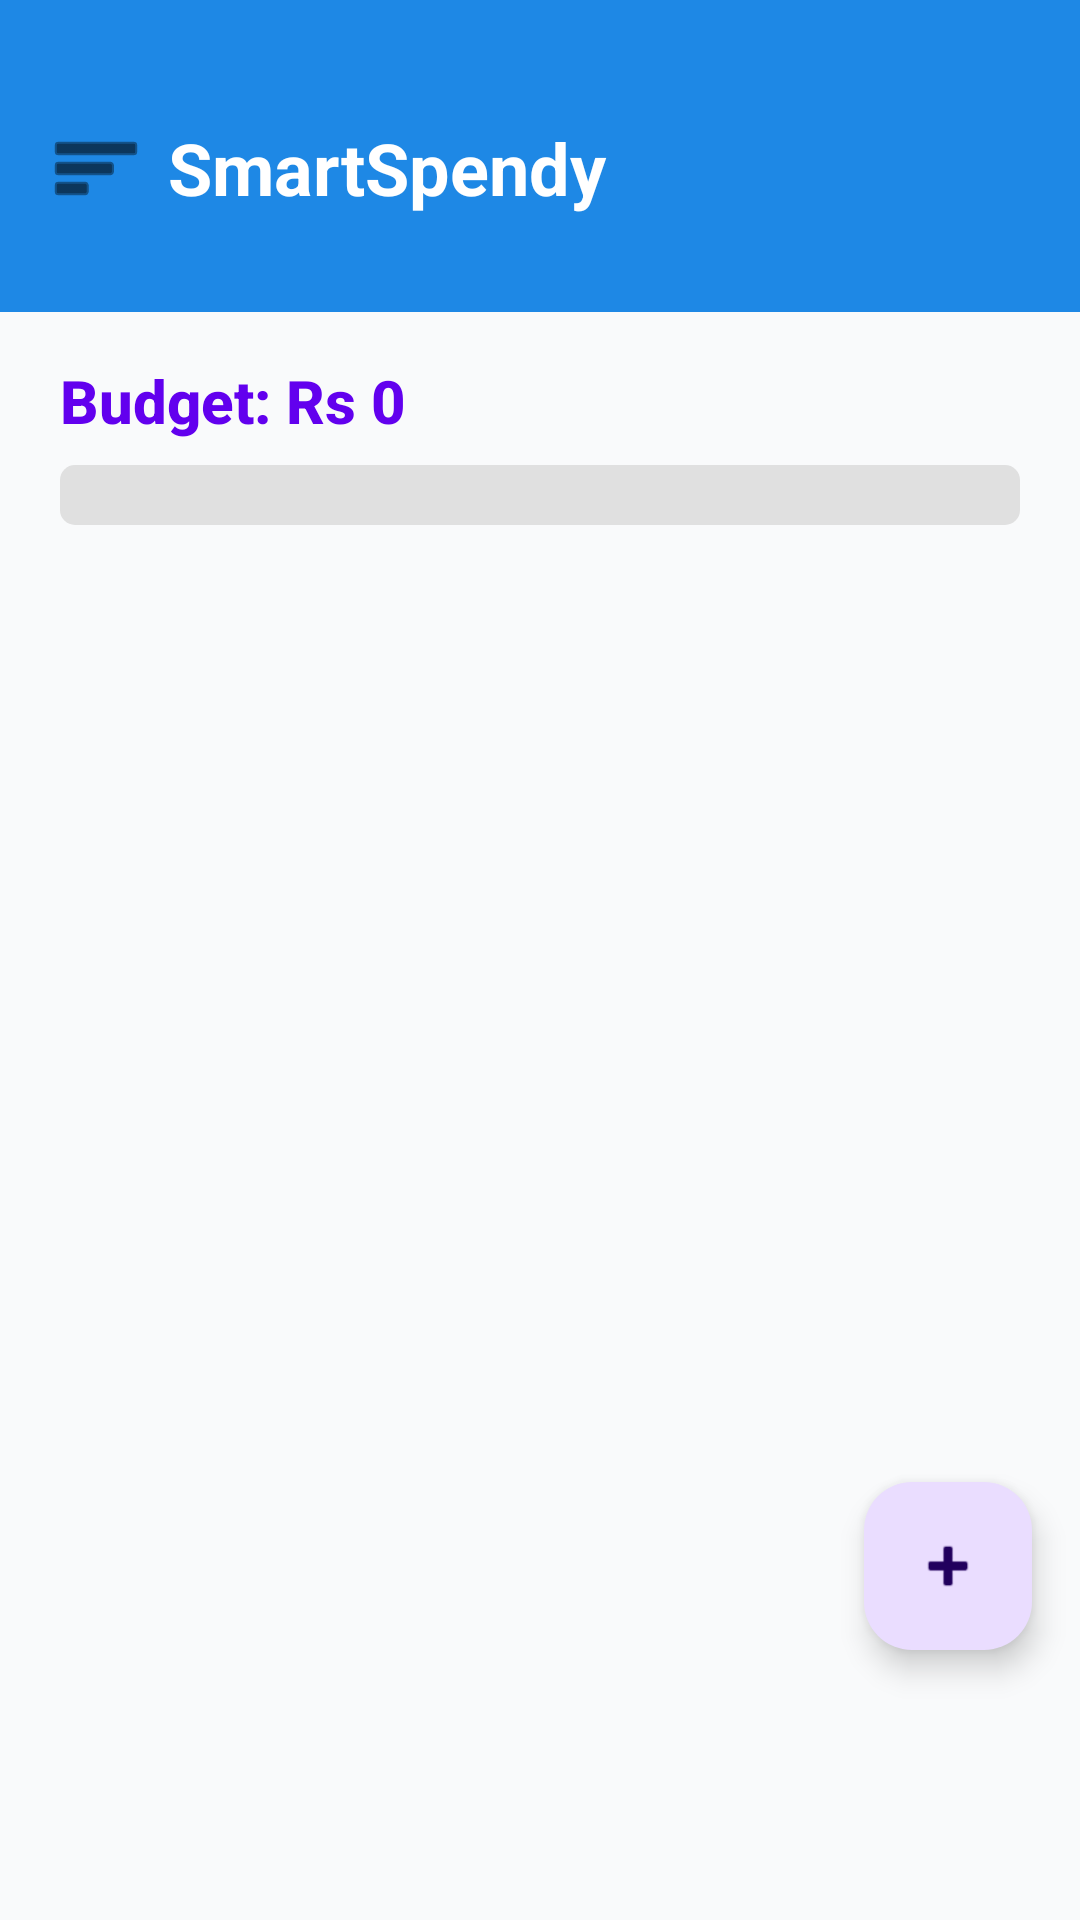

Icon bounding boxes for this 1080x1920 phone screenshot, format region(x1, y1, x2, y2):
add: region(864, 1482, 1032, 1650)
Menu: region(55, 142, 137, 195)
